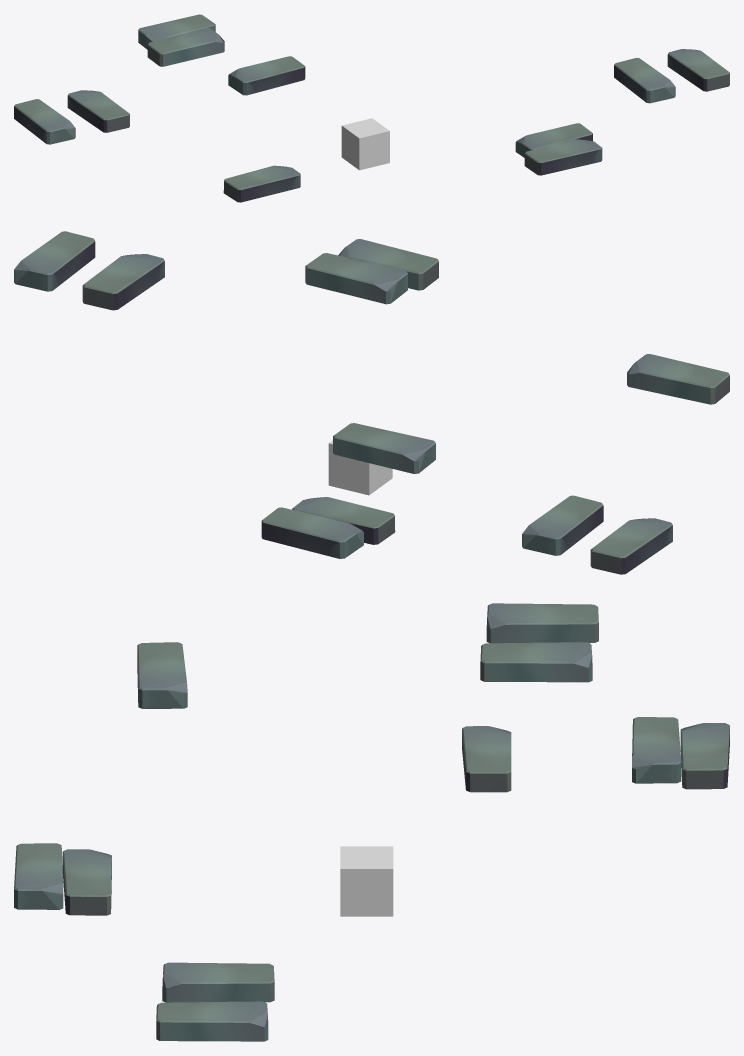
File: battlescence-4-floor013-2.fbx
The picture shows the model from 3 angles, top to bottom: view 1: azimuth 30°, elevation 25°; view 2: azimuth 150°, elevation 25°; view 3: azimuth 270°, elevation 25°; orthographic projection. The views are drawn at different scales.
Parts seen in each view (by area): view 1: battlescence-4-floor013-2, Cube.095, Cube.090, Cube.097, Cube.082, Cube.100, Cube.103, Cube.101, Cube.104, Cube.098, Cube.091; view 2: Cube.098, Cube.090, Cube.082, Cube.091, Cube.104, Cube.101, Cube.100, Cube.103, Cube.097, Cube.095, battlescence-4-floor013-2; view 3: Cube.104, Cube.101, Cube.103, Cube.100, battlescence-4-floor013-2, Cube.082, Cube.095, Cube.097, Cube.090, Cube.098, Cube.091.
Part boxes in pixels (x1,y1,x2,y2): battlescence-4-floor013-2: (341, 118, 389, 170); Cube.095: (147, 27, 224, 66); Cube.090: (228, 56, 305, 95); Cube.097: (524, 139, 602, 175); Cube.082: (223, 165, 300, 202); Cube.100: (14, 99, 75, 144); Cube.103: (614, 58, 675, 103); Cube.101: (67, 90, 129, 132); Cube.104: (667, 49, 729, 91); Cube.098: (515, 123, 592, 157); Cube.091: (138, 14, 215, 49); Cube.098: (305, 253, 407, 304); Cube.090: (333, 423, 435, 473); Cube.082: (627, 354, 729, 404); Cube.091: (261, 507, 363, 558); Cube.104: (14, 231, 95, 291); Cube.101: (522, 495, 603, 555); Cube.100: (590, 518, 672, 574); Cube.103: (82, 254, 164, 310); Cube.097: (338, 239, 438, 290); Cube.095: (292, 497, 395, 544); battlescence-4-floor013-2: (328, 440, 392, 495); Cube.104: (156, 1001, 268, 1041); Cube.101: (480, 642, 592, 682); Cube.103: (162, 962, 274, 1002); Cube.100: (486, 603, 598, 643); battlescence-4-floor013-2: (340, 846, 393, 916); Cube.082: (137, 642, 187, 708); Cube.095: (632, 717, 681, 783); Cube.097: (14, 843, 63, 909); Cube.090: (462, 726, 511, 792); Cube.098: (62, 849, 111, 915); Cube.091: (680, 723, 729, 789).
Bounding box in the file's own units: 2323 × 295 × 1675.
